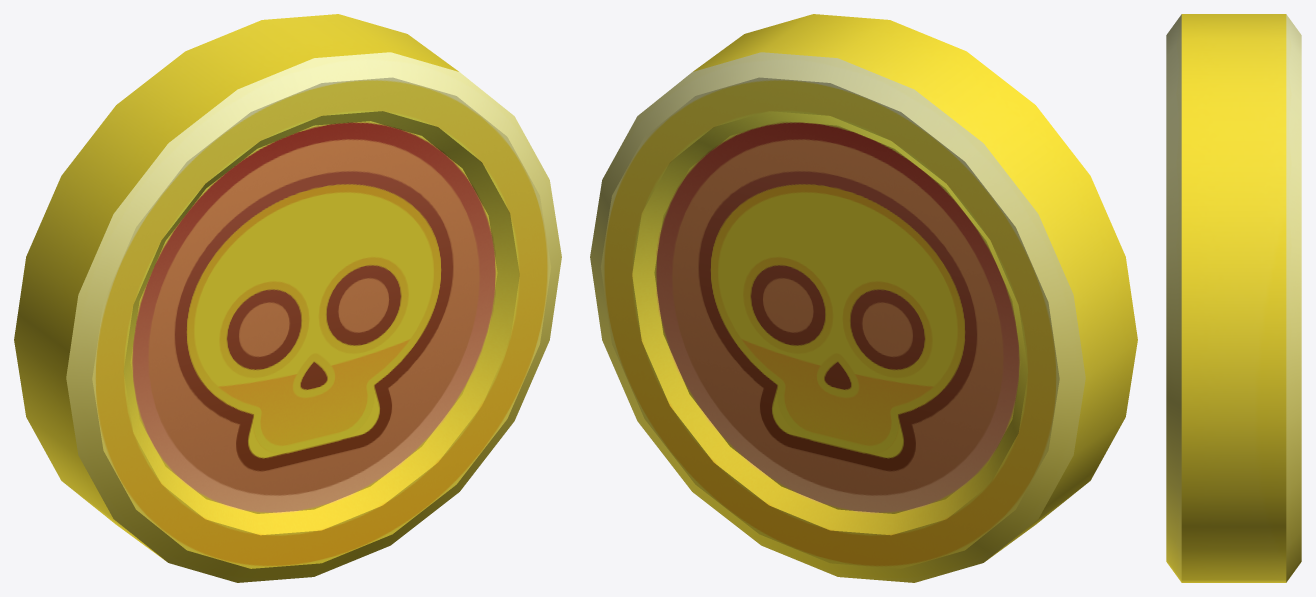
Rendered from M_Coins.fbx.
3 renders of one model, left to right at view 1: azimuth 30°, elevation 25°; view 2: azimuth 150°, elevation 25°; view 3: azimuth 270°, elevation 25°, orthographic.
Parts seen in each view (by area): view 1: Coins; view 2: Coins; view 3: Coins.
Boxes of the visible parts, <box> form: Coins: <box>14,14,561,582</box>; Coins: <box>590,14,1137,582</box>; Coins: <box>1166,14,1301,582</box>.
Bounding box in the file's own units: 200 × 200 × 47.16.
